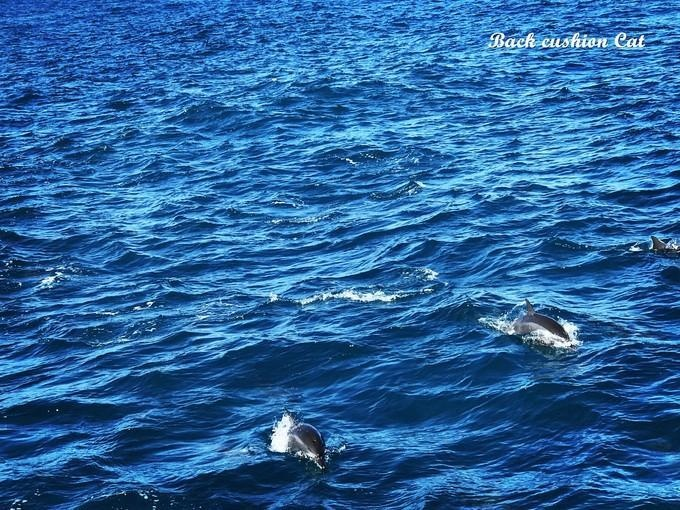fish: (506, 299, 580, 350), (280, 418, 331, 468)
